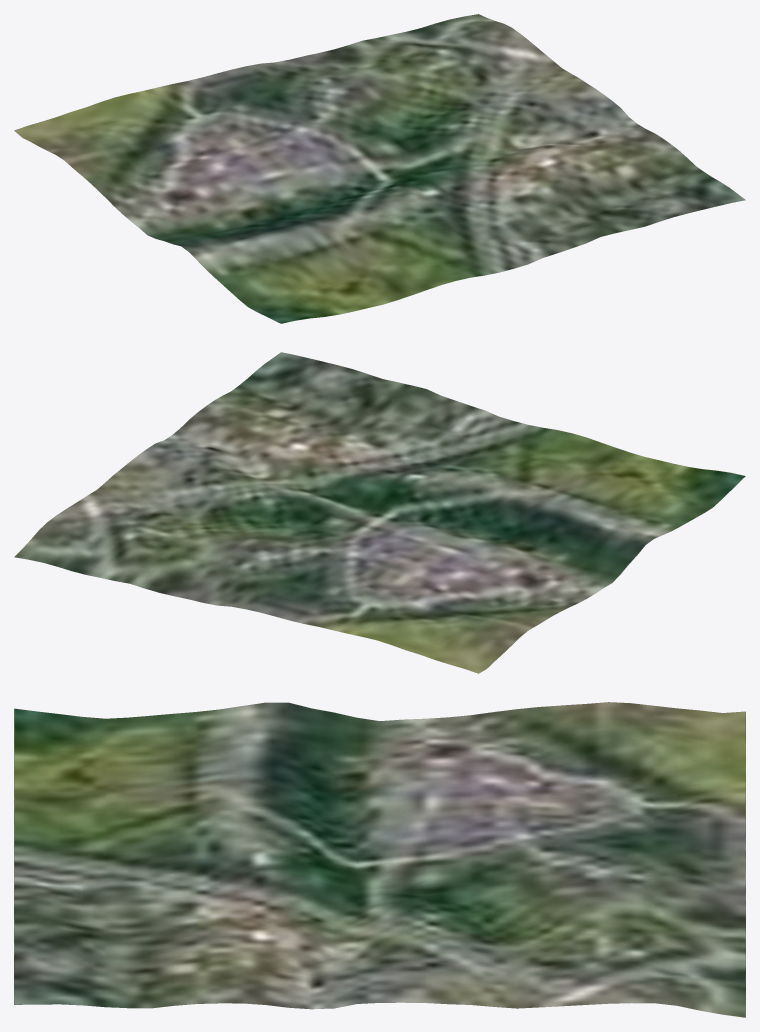
The picture shows the model from 3 angles, top to bottom: view 1: azimuth 30°, elevation 25°; view 2: azimuth 150°, elevation 25°; view 3: azimuth 270°, elevation 25°; orthographic projection. The views are drawn at different scales.
Bounding box in the file's own units: 975 × 42.48 × 971.
1 material, 1 textured.
